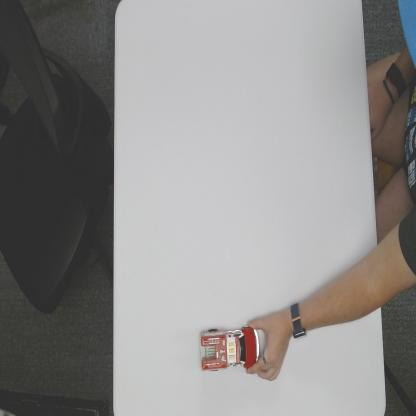Arm: (308, 233, 382, 333)
Firetruck: (198, 325, 262, 373)
Hand: (246, 314, 288, 382)
